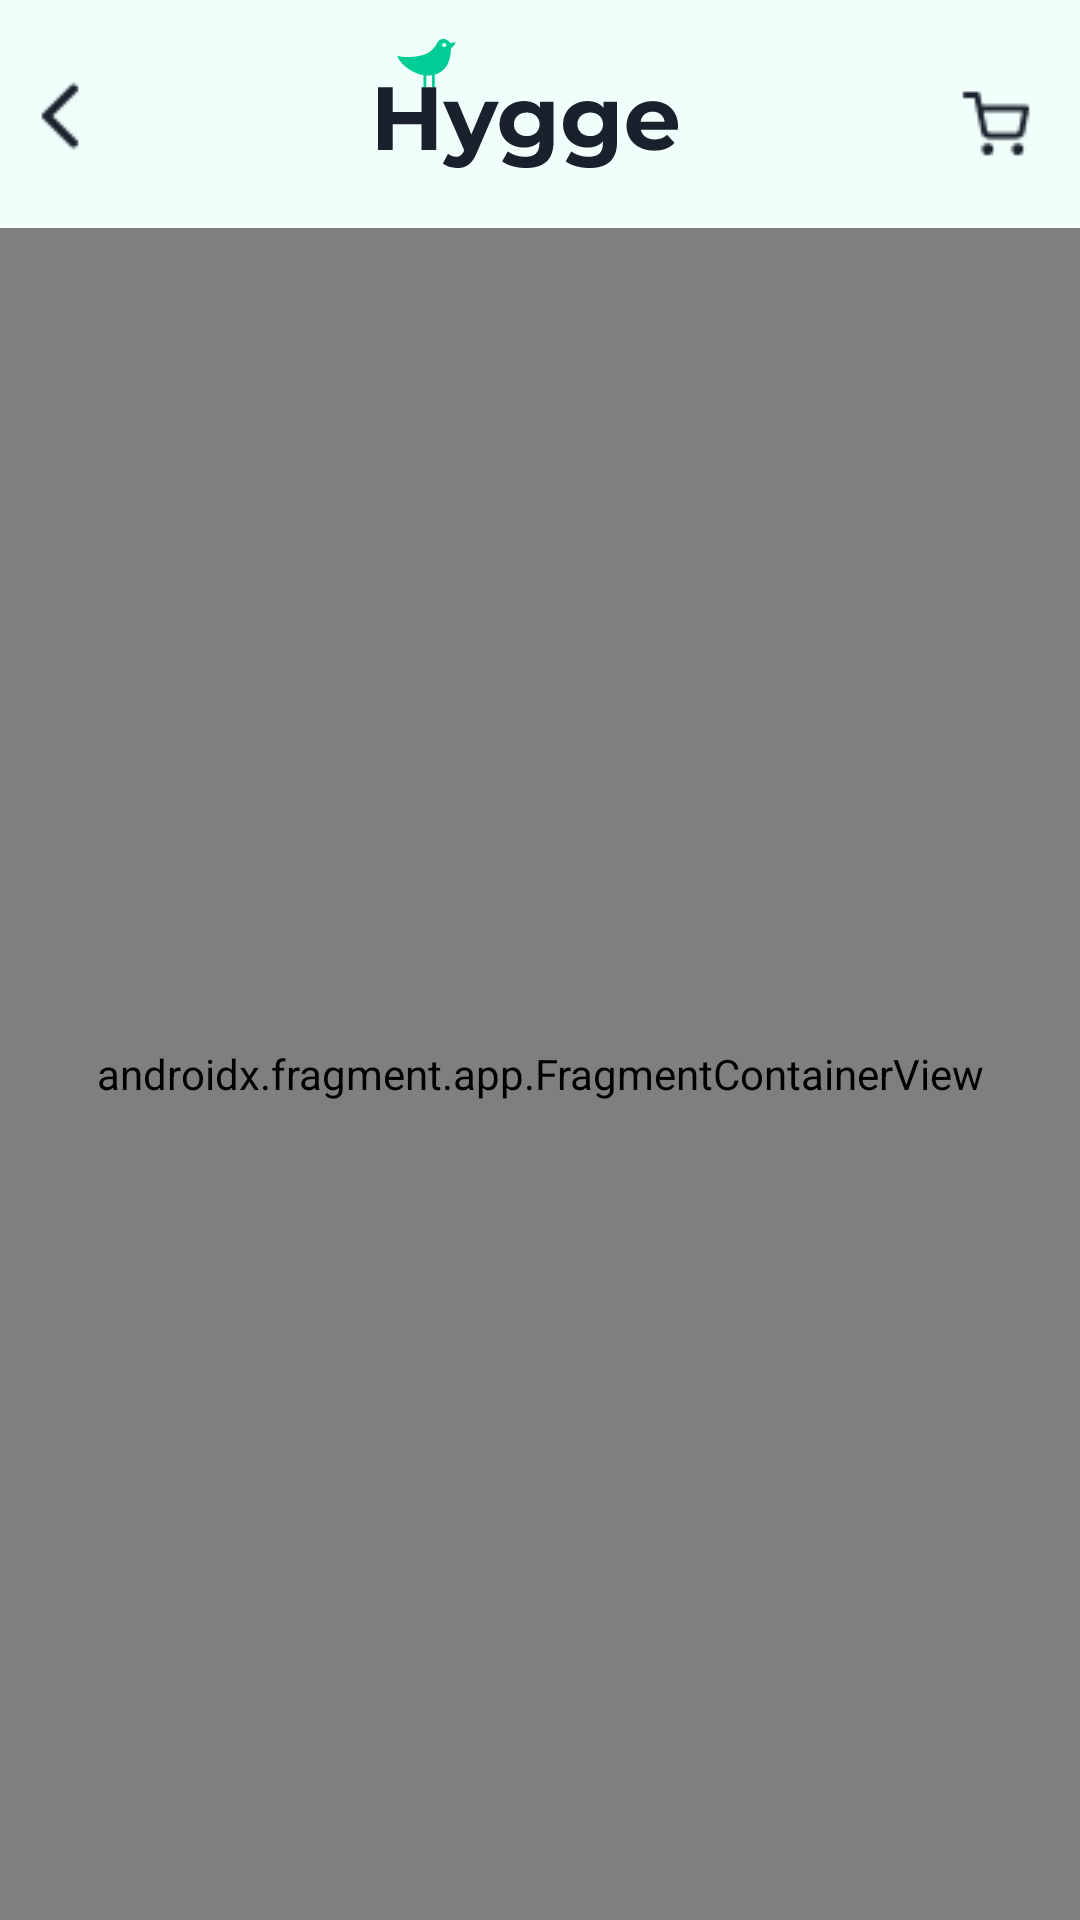

Screen size 1080×1920. Icon name, then its box in pixels as (x1, y1, x2, y2):
back: (41, 82, 79, 150)
basket: (962, 91, 1030, 156)
